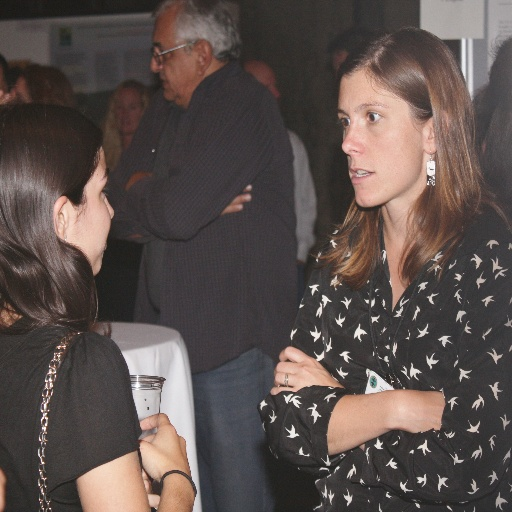hand: (130, 412, 182, 500), (268, 346, 343, 395), (392, 389, 444, 433), (220, 184, 251, 214), (125, 173, 154, 192)
